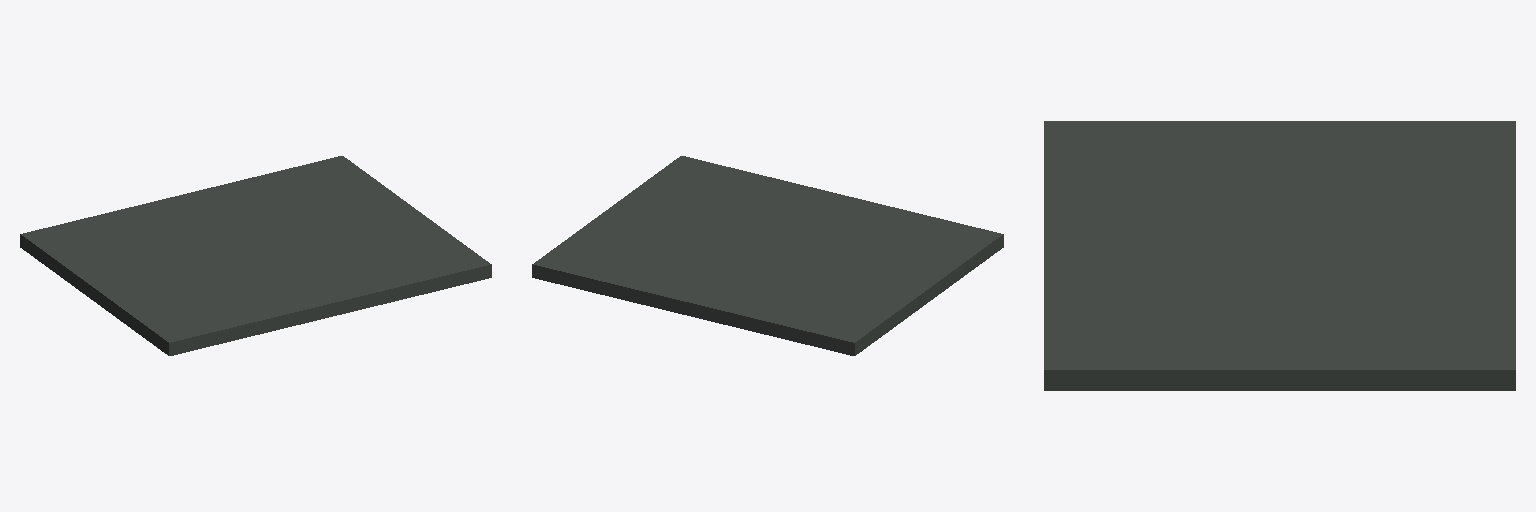
robot.urdf — ground_skeleton:
<?xml version="1.0"?>
<robot name="ground_skeleton">
    <material name="greygreen">
        <color rgba="0.324 0.346 0.330 1"/>
    </material>
    <link name="world" />
    <link name="world_frame">
        <inertial>
            <mass value="0.000000001" />
            <origin xyz="0 0 0" rpy="0 0 0" />
            <inertia ixx="0.000000001" ixy="0.000000001" ixz="0.000000001" iyy="1.0" iyz="0" izz="1.0" />
        </inertial>
    </link>
    <link name="ground_link">
         <collision>
            <origin xyz="0 0 -0.025" rpy="0 -0 0" />
            <geometry>
                <box size="5000.0 500.0 0.05" />
            </geometry>
        </collision>
         <visual name="visual">
            <origin xyz = "-1. -1 -0.1" rpy="0. 0 0" />
            <geometry>
                <mesh filename = "../mesh/tile_marble_diamond.dae" scale="0.1 0.05 0.1" />
            </geometry>
        </visual>
        <inertial>
            <mass value="1.0" />
            <origin xyz="0 0 0" rpy="0 0 0" />
            <inertia ixx="1.0" ixy="0" ixz="0" iyy="1.0" iyz="0" izz="1.0" />
        </inertial>
    </link>
    <link name="wall_link">
         <collision>
            <origin xyz="0 0 0.00" rpy="0 0.5 0" />
            <geometry>
                <box size="50.0 50.0 2.3" />
            </geometry>
         </collision>
         <visual name="visual">
            <origin xyz = "0 0 0" rpy="0. 0 0" />
            <geometry>
                <box size="2.5 2.0 0.1" />
            </geometry>
            <material name="greygreen"/>
        </visual>
    </link>
    <joint name="ground_joint" type="fixed">
        <origin xyz="0 0.5 -0.01" rpy="0 1 0" />
        <parent link="world" />
        <child link="ground_link" />
    </joint>
    <joint name="frame_joint" type="fixed">
        <origin xyz="0 0 0" rpy="0 0 0" />
        <parent link="world" />
        <child link="world_frame" />
    </joint>
    <joint name="wall_joint" type="fixed">
        <origin xyz="0.5 -0.1 -0.5" rpy="0 -0 0" />
        <parent link="world" />
        <child link="wall_link" />
    </joint>
</robot>

--- Facts derived from the render (not from the file) ---
3 views of the same robot in one strip: view 1: azimuth 30°, elevation 25°; view 2: azimuth 150°, elevation 25°; view 3: azimuth 270°, elevation 25° (orthographic).
Robot: ground_skeleton — 4 links, 3 joints (3 fixed); root link world; default pose: all joints at 0.
Links seen in each view (by area): view 1: wall_link; view 2: wall_link; view 3: wall_link.
Link boxes in pixels (left/top/right/bottom): wall_link: left=20, top=156, right=491, bottom=355; wall_link: left=532, top=156, right=1003, bottom=355; wall_link: left=1044, top=121, right=1515, bottom=390.
Bounding box of the posed robot: 2.5 × 2 × 0.1 m (x, y, z).
Meshes: 1 distinct files referenced, 0 mesh visuals loaded (none loaded); not drawn: 1 (reference not matched to a file when rendering).